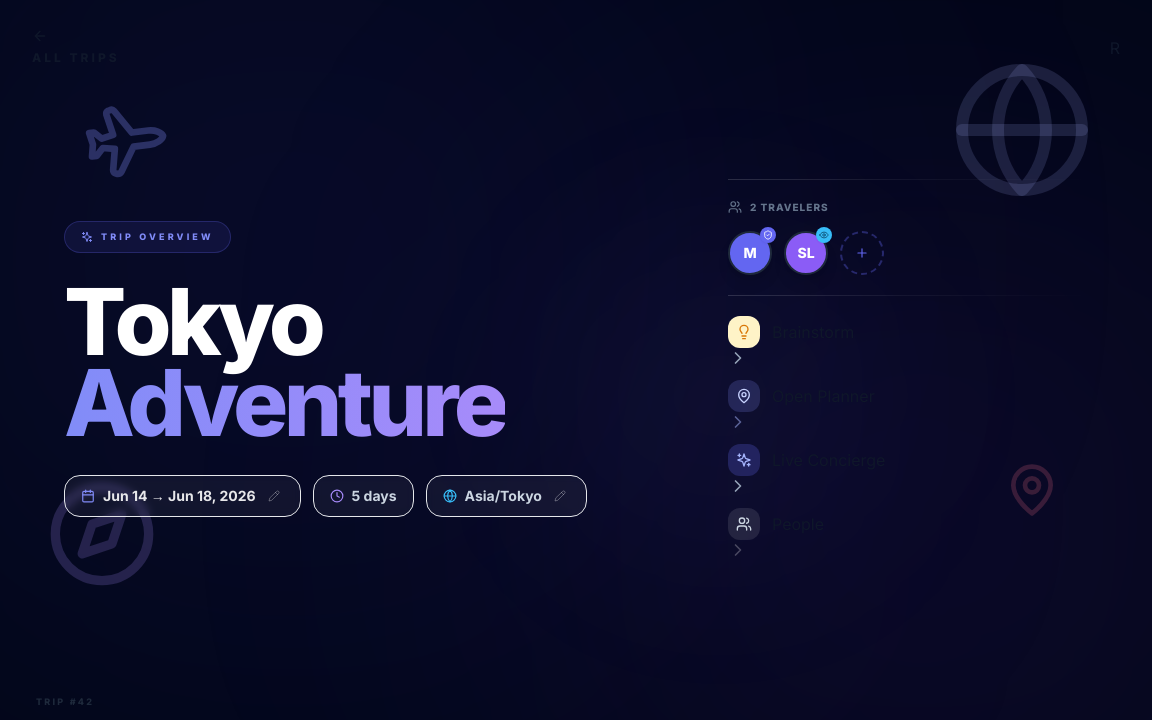
TripHub — invite › invites a member and shows the success state
Expected: the text "Tokyo" is shown, [64, 281, 321, 362]
Click the button titled "Add traveler" at (862, 253), box [840, 231, 884, 275]
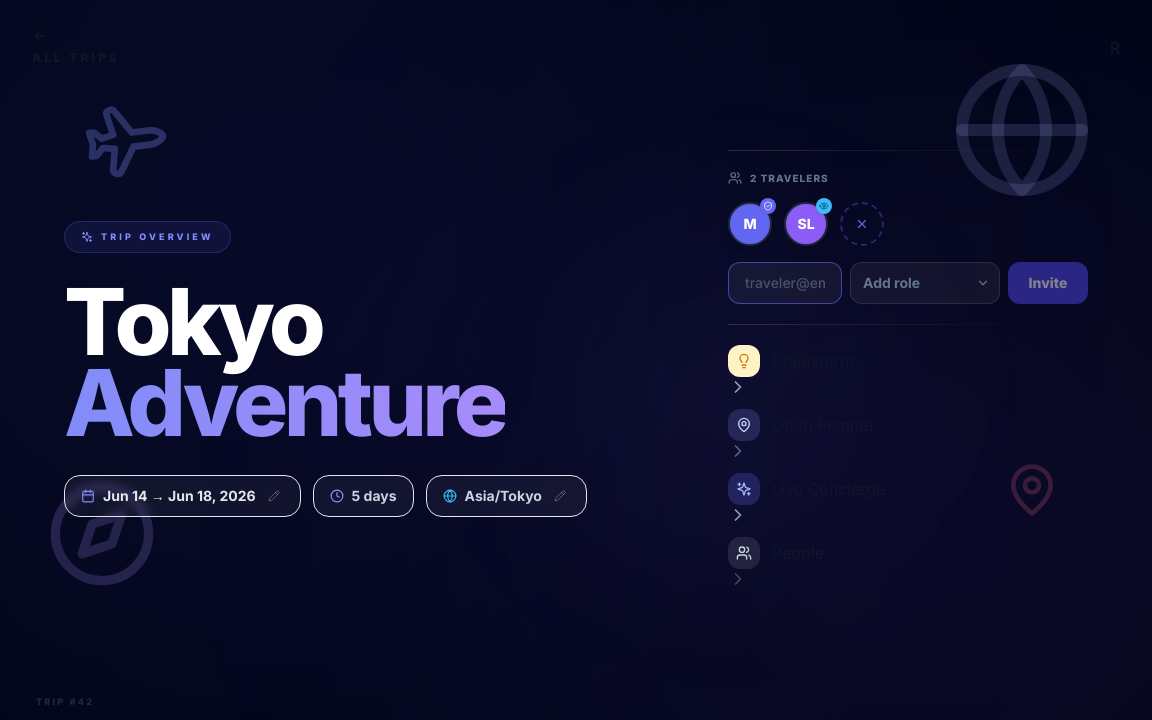
Type "new@person.com" into the field with placeholder "traveler@email.com" at (785, 283), box [728, 262, 842, 304]
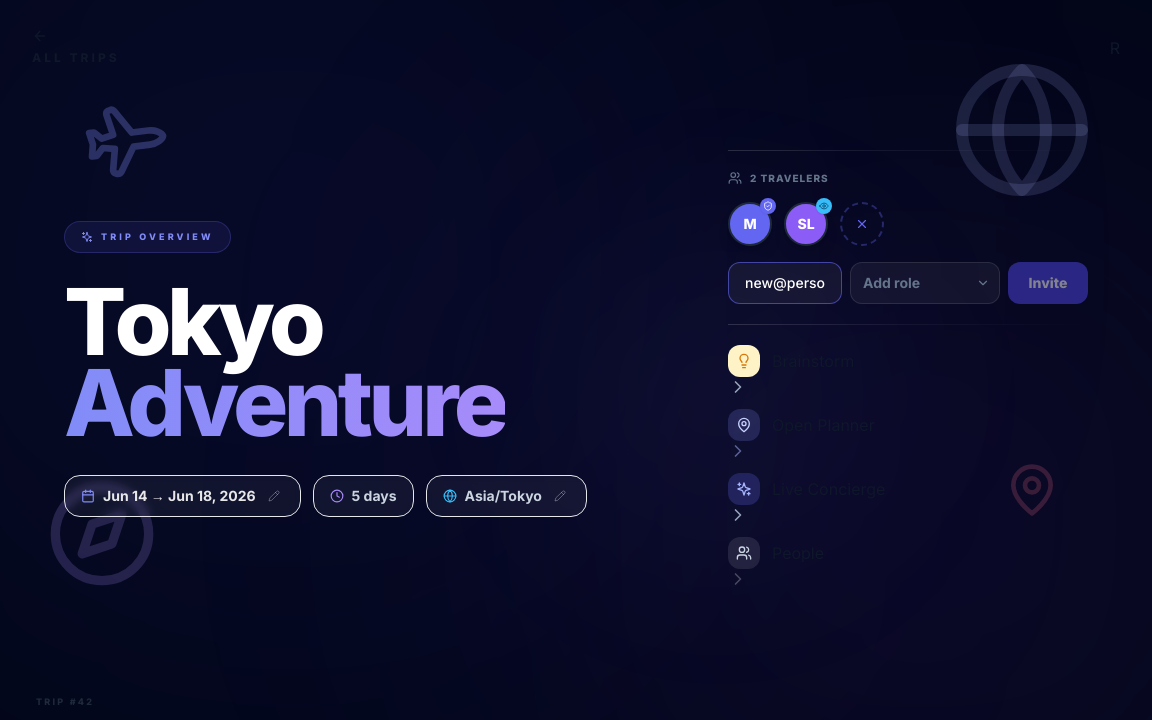
Select "View with Vote" in the dropdown at (925, 283), box [850, 262, 1000, 304]
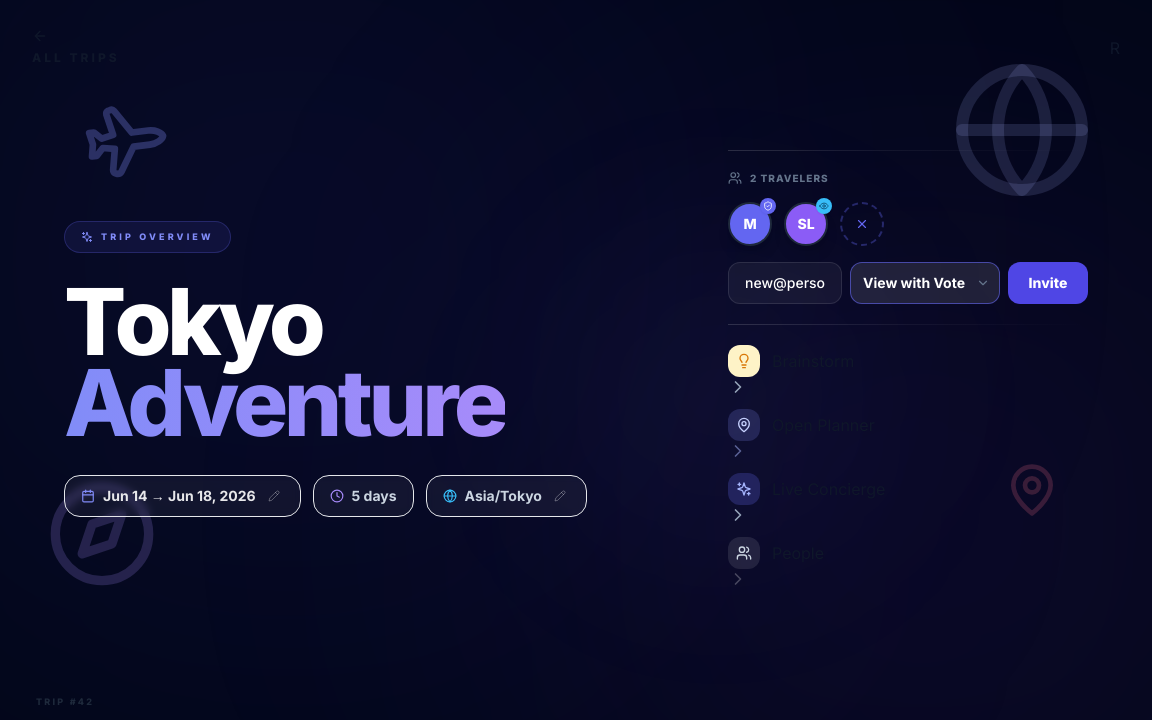
Click the button "Invite" at (1048, 283), box [1008, 262, 1088, 304]
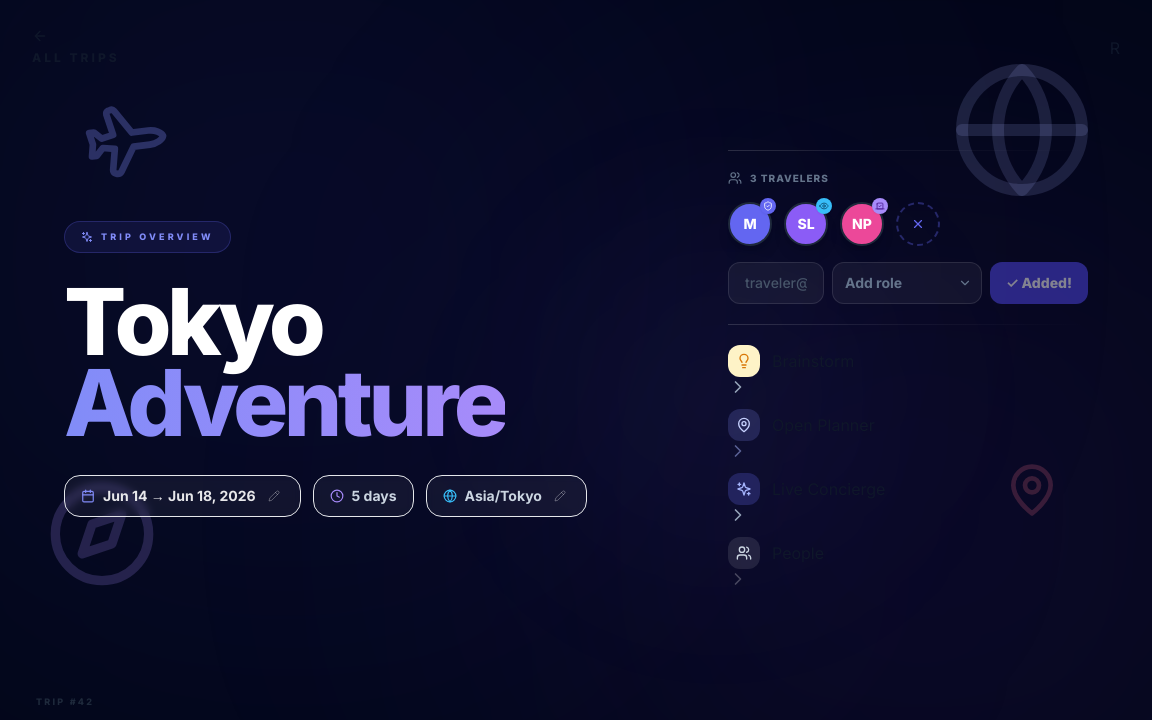
Now the button "✓ Added!" is shown, box [990, 262, 1088, 304]
